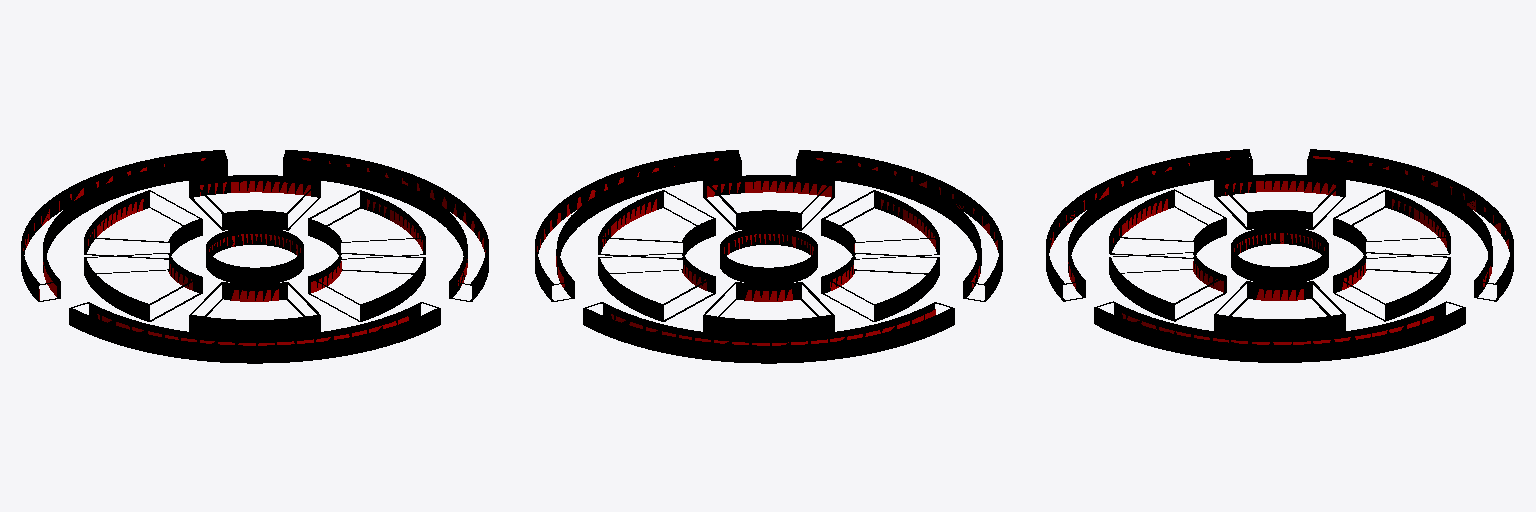
Rendered from Landscape.SoundGarden.obj.
3 views of the same model, side by side, from view 1: azimuth 30°, elevation 25°; view 2: azimuth 150°, elevation 25°; view 3: azimuth 270°, elevation 25° (orthographic).
Bounding box in the file's own units: 18.92 × 0.75 × 19.